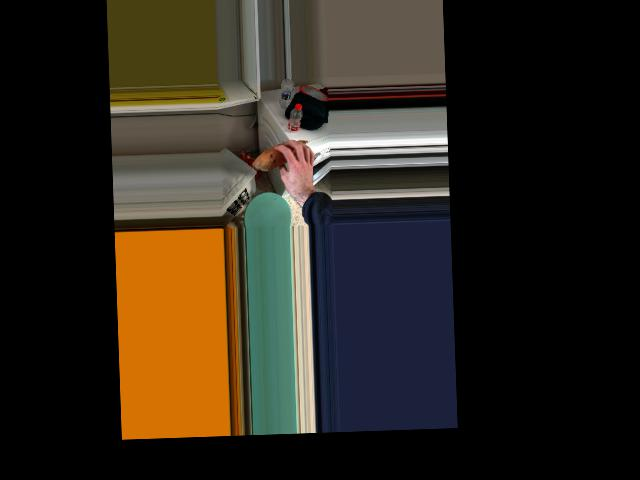sweet_potato: (256, 140, 310, 166)
